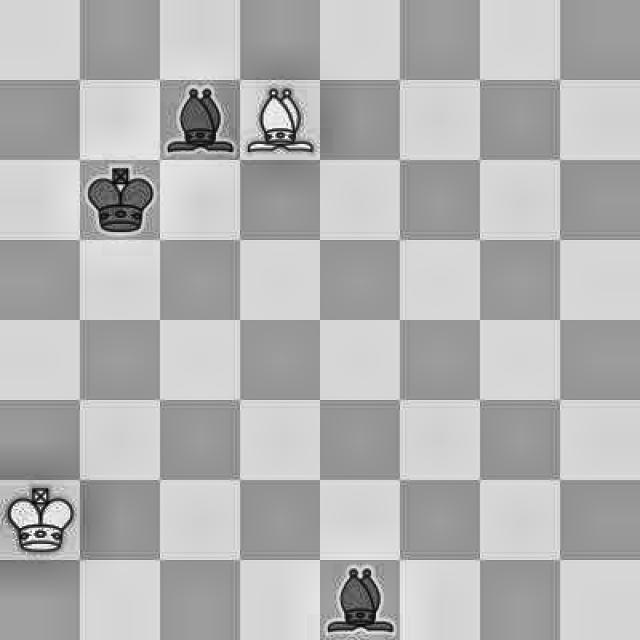black bishop: (320, 563, 395, 640)
black king: (83, 162, 161, 240)
white bishop: (162, 82, 234, 161), (251, 84, 313, 154)
white king: (3, 483, 80, 560)
